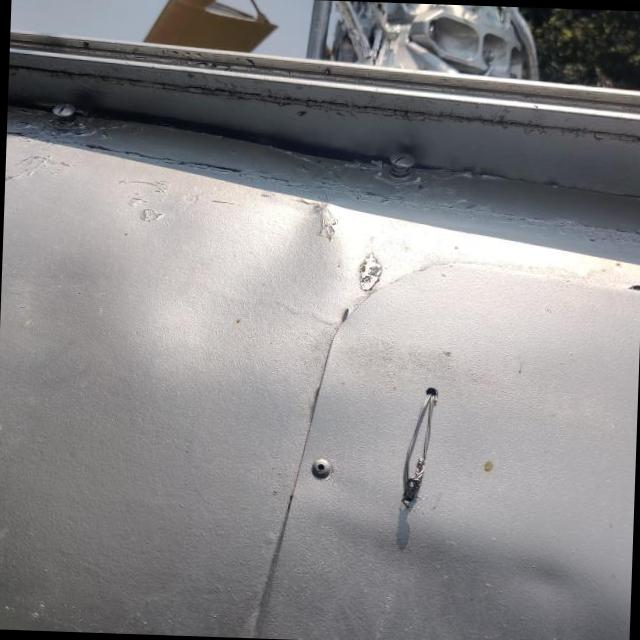Dent: (146, 170, 365, 391)
